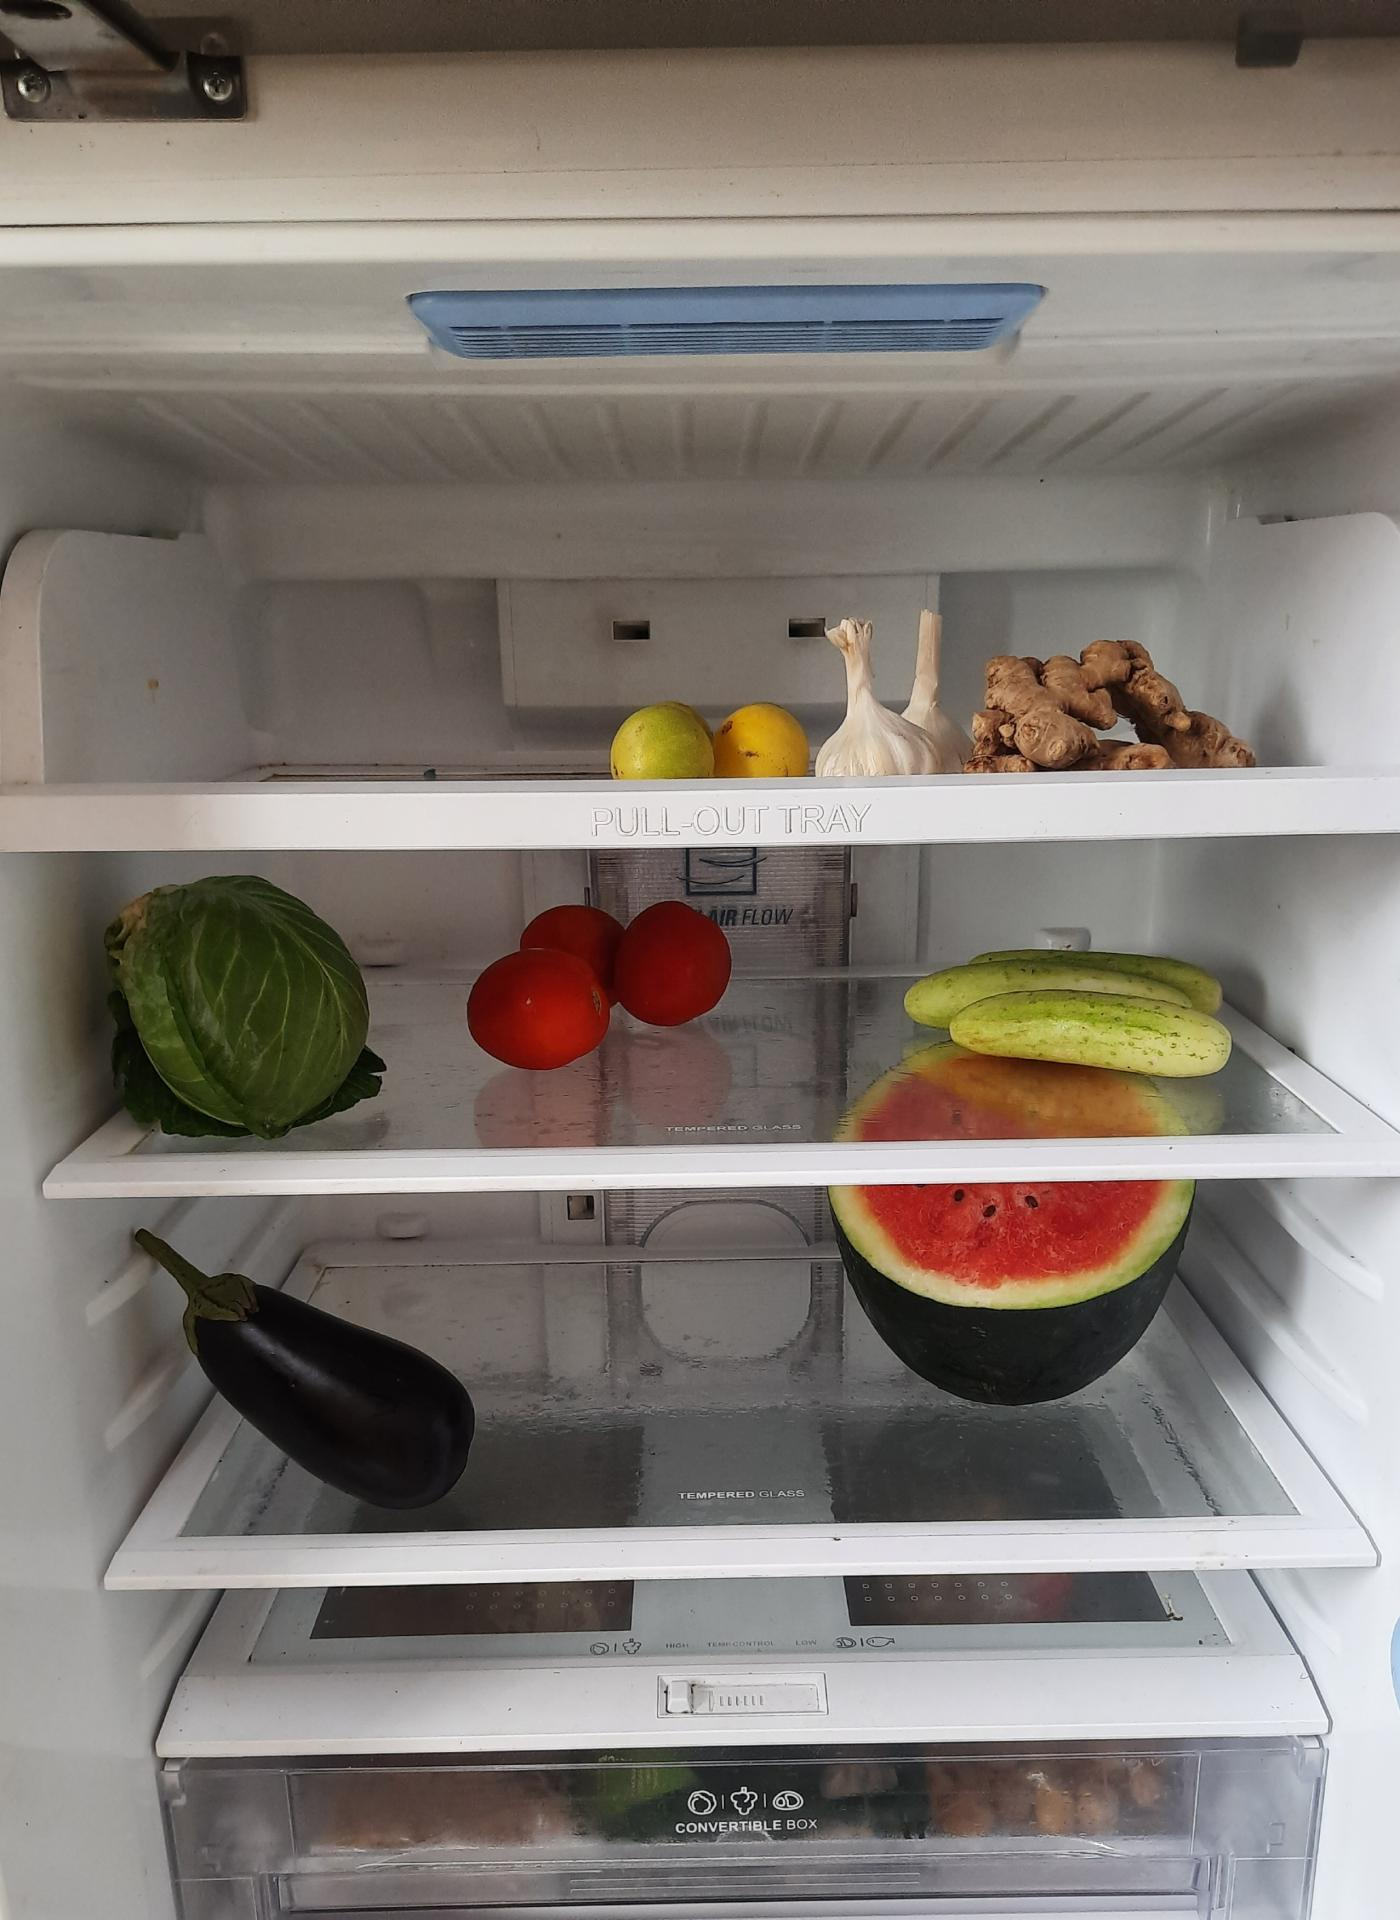brinjal: (145, 1234, 479, 1513)
cabbage: (104, 874, 376, 1127)
cucumber: (895, 956, 1232, 1079)
garlic: (810, 604, 951, 775)
ginger: (977, 632, 1260, 781)
lemon: (613, 695, 817, 781)
tomato: (473, 896, 735, 1067)
watermelon: (830, 1078, 1200, 1418)
